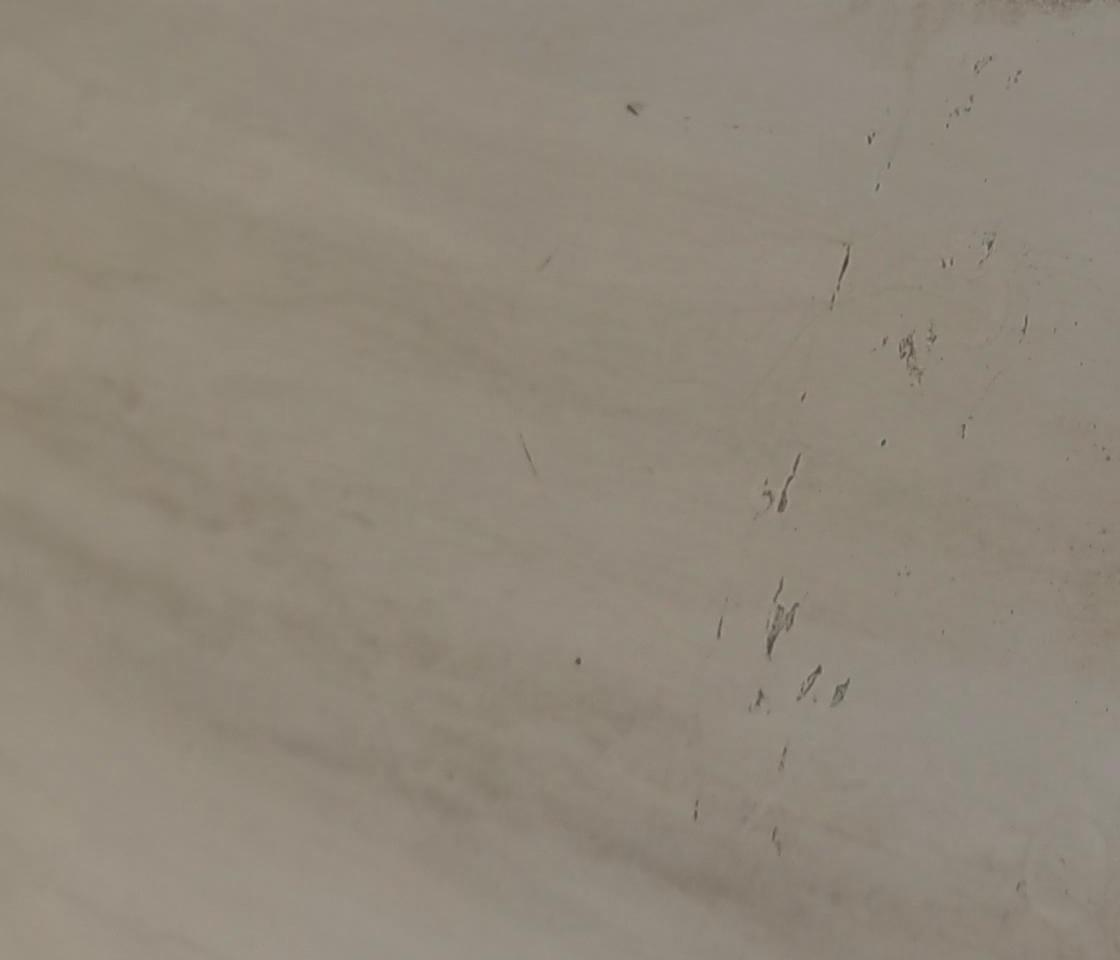scratch: (775, 447, 809, 517), (831, 241, 859, 317), (796, 663, 826, 706)
